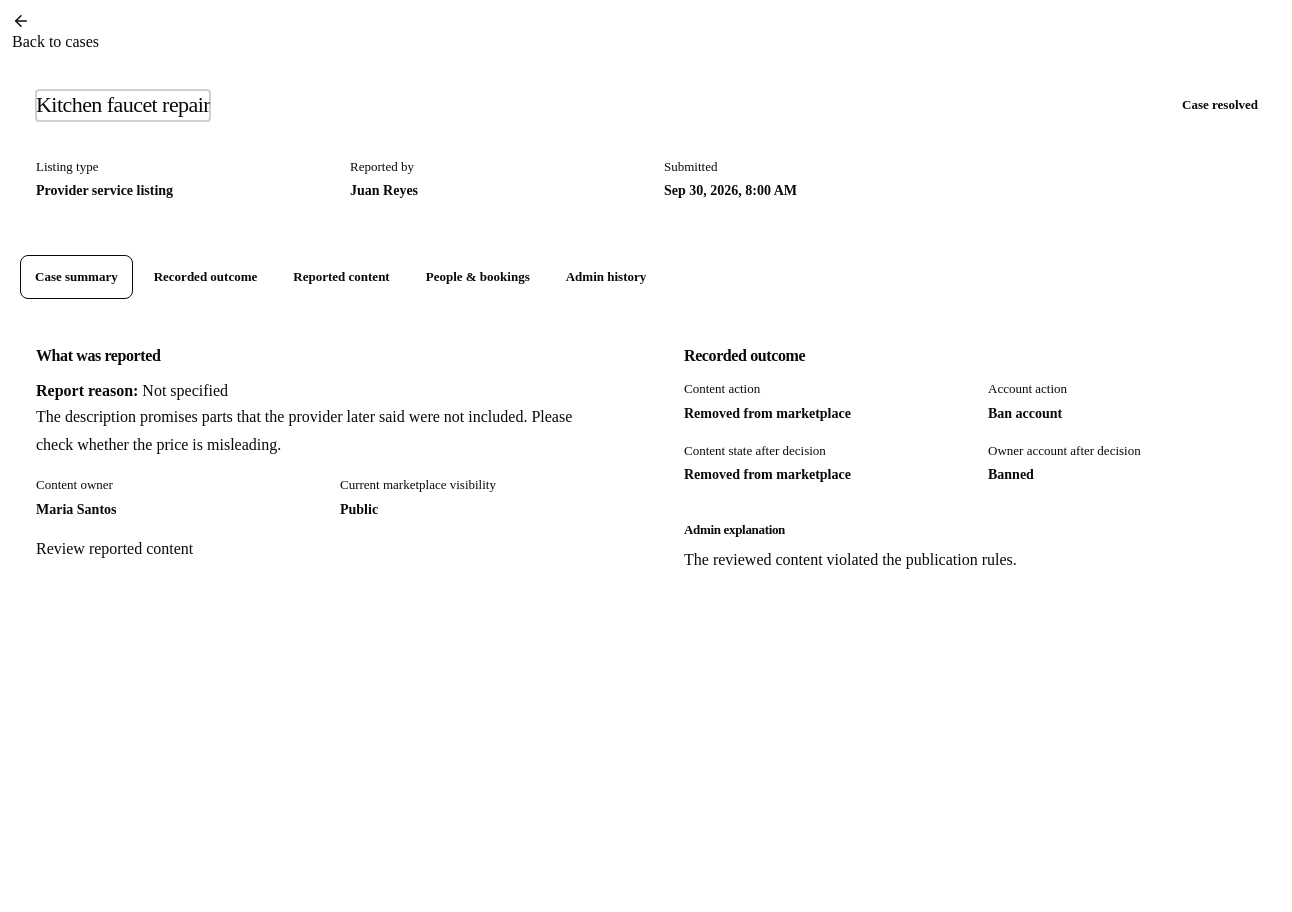
it: Content case decision safety › separates a resolved content removal from the owner ban and keeps the original content available
Expected: the heading "Recorded outcome" is shown, [684,347,805,364]
Click the button "Recorded outcome" at (206, 277), box [139,255,272,299]
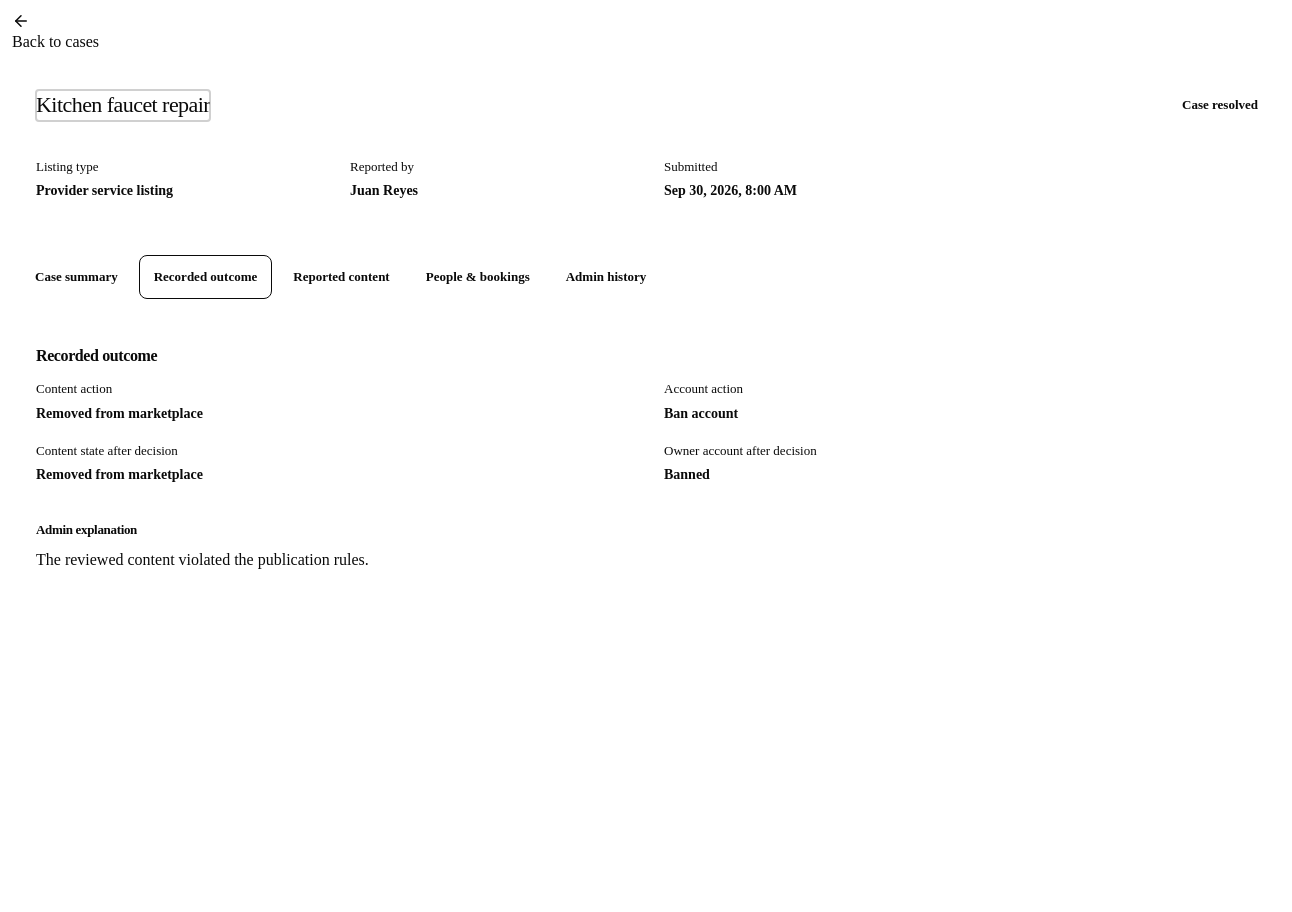
Expected: the heading "Recorded outcome" is shown, [36,347,157,364]
Expected: the heading "What was reported" is gone
Expected: the text "Removed from marketplace" is shown 2 times, [36,406,203,421]; [36,468,203,482]
Click the button "Reported content" at (342, 277), box [278,255,405,299]
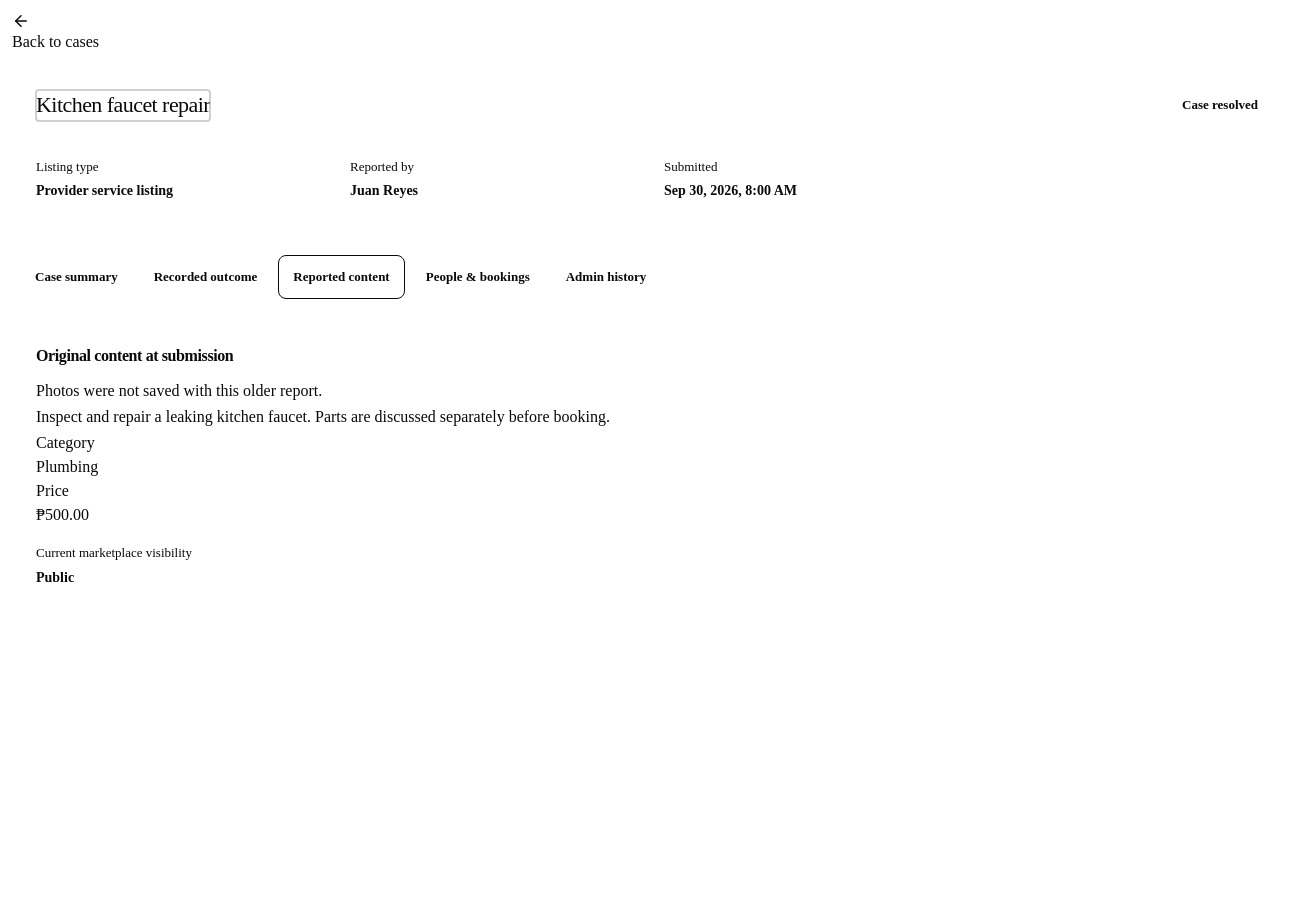
Expected: the text "Inspect and repair a leaking kitchen faucet. Parts are discussed separately before booking." is shown, [36,408,610,425]
Click the button "People & bookings" at (478, 277), box [411,255,545,299]
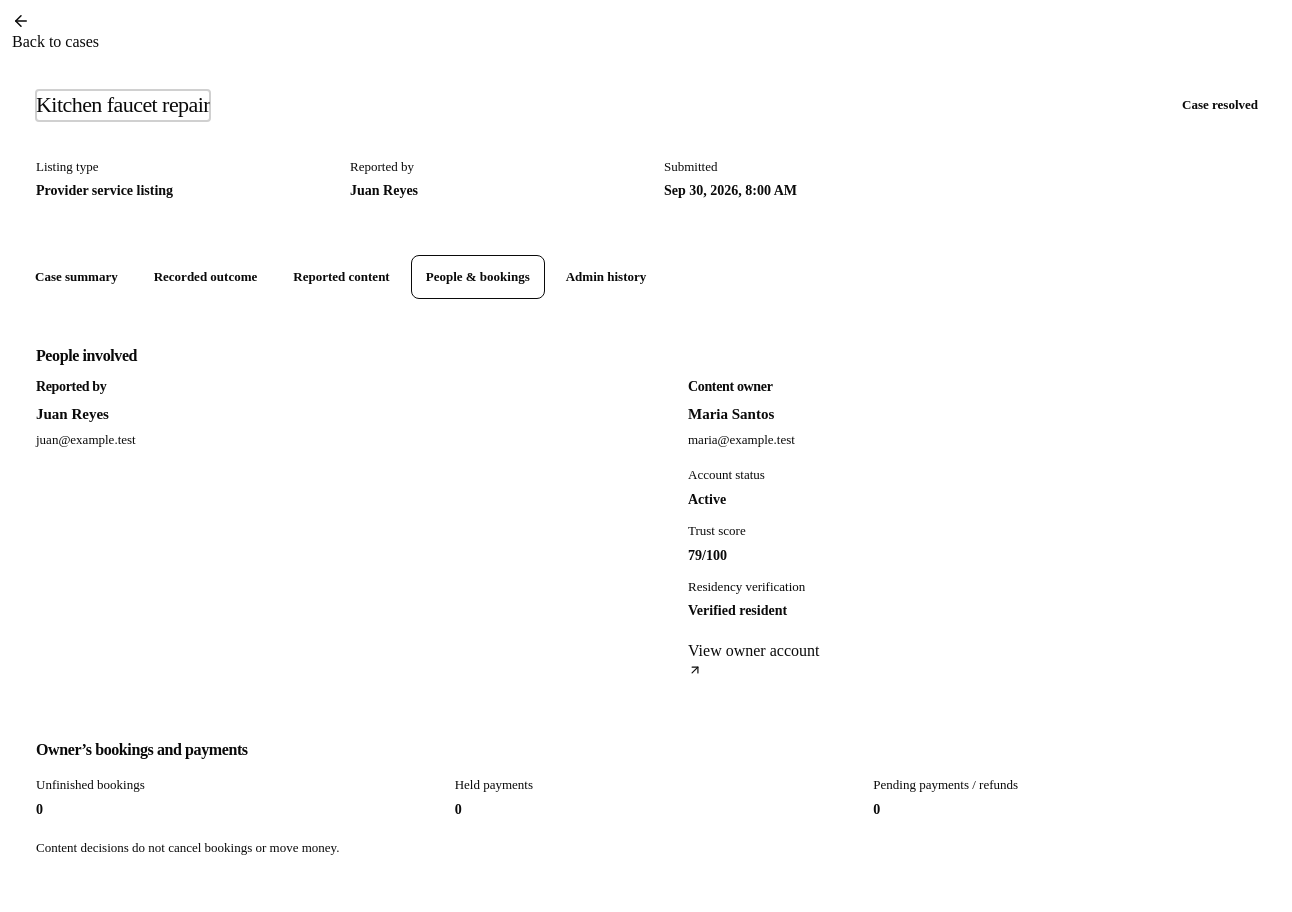
Expected: the heading "Owner’s bookings and payments" is shown, [36,741,248,758]
